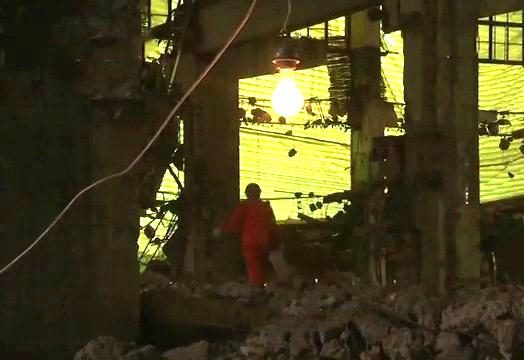helmet: (244, 183, 262, 200)
